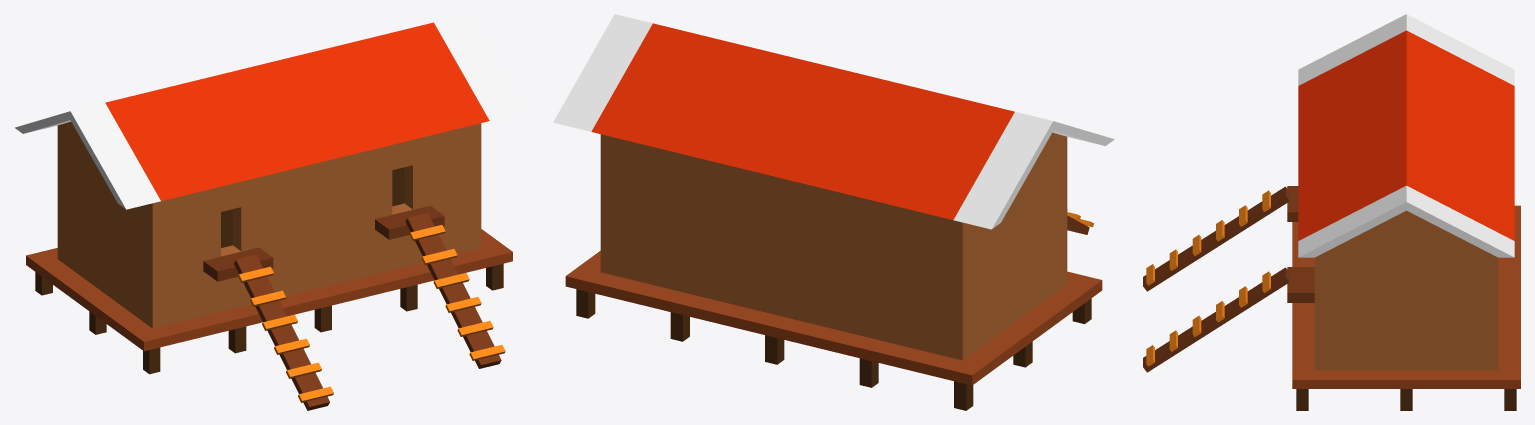
Rendered from building_henhouse.fbx.
3 views of the same model, side by side, from view 1: azimuth 30°, elevation 25°; view 2: azimuth 150°, elevation 25°; view 3: azimuth 270°, elevation 25° (orthographic). The views are drawn at different scales.
Parts seen in each view (by area): view 1: building_henhouse; view 2: building_henhouse; view 3: building_henhouse.
Boxes of the visible parts, x1=… form: building_henhouse: x1=15, y1=14, x2=524, y2=410; building_henhouse: x1=553, y1=14, x2=1114, y2=410; building_henhouse: x1=1143, y1=14, x2=1520, y2=410.
Size of the model in its own units: 969 by 528 by 823.
1 material, 1 textured.
